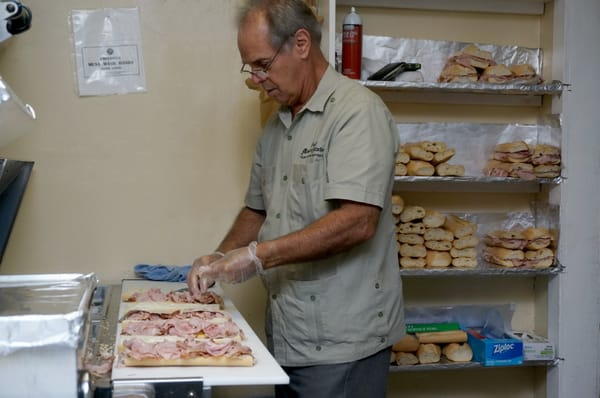burger: (342, 4, 363, 79)
curry: (2, 271, 291, 394)
sandwich: (117, 306, 254, 367), (121, 285, 219, 312)
